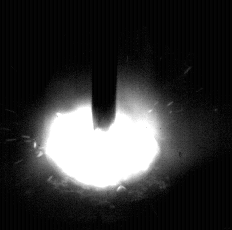arame: (93, 0, 118, 130)
poca: (41, 0, 158, 230)
